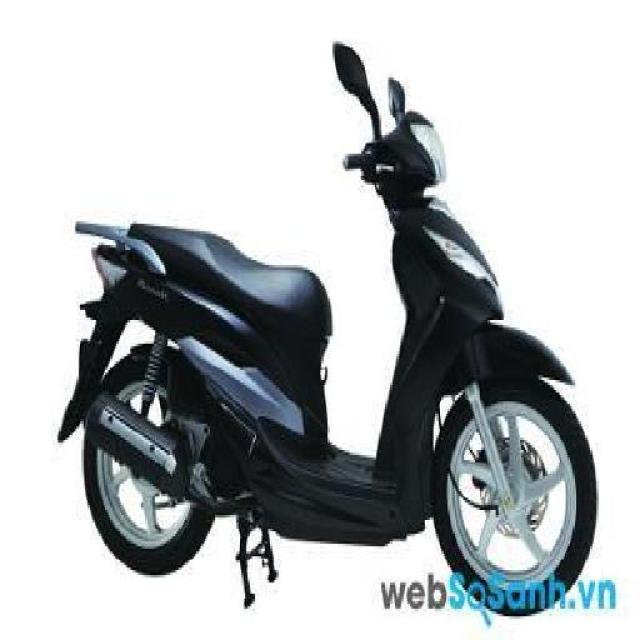All: (53, 104, 602, 614)
Head: (340, 109, 454, 201)
Tail: (70, 204, 162, 296)
